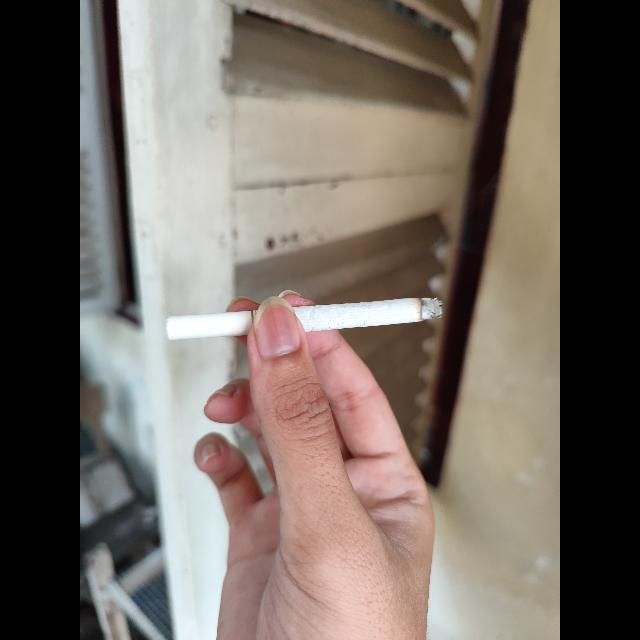rokok: (156, 288, 448, 338)
